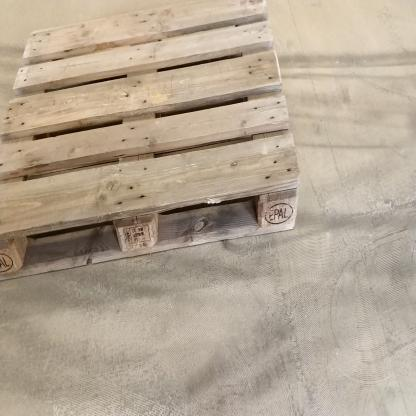BoxFace: (0, 1, 302, 287)
